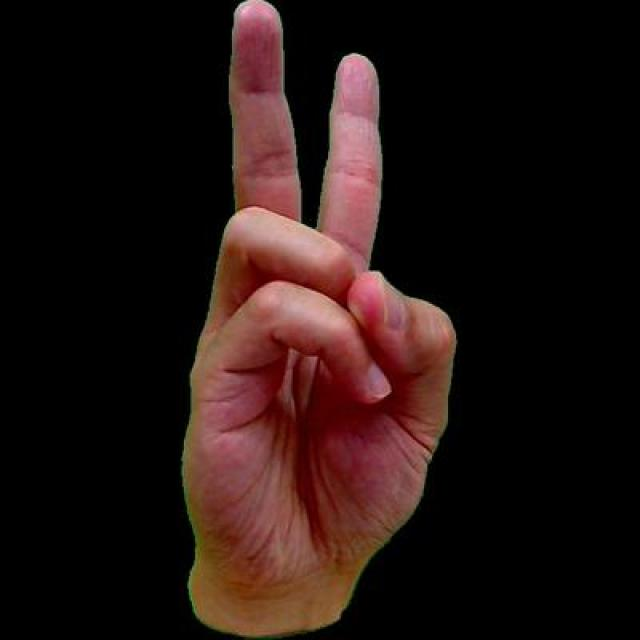v: (176, 0, 459, 637)
